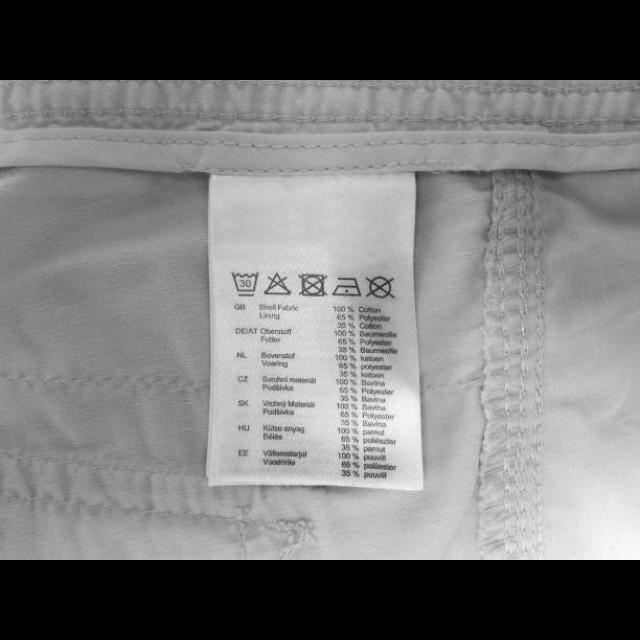30C: (228, 268, 260, 298)
DN_bleach: (262, 270, 294, 300)
DN_dry_clean: (364, 272, 396, 300)
DN_tumble_dry: (296, 270, 330, 300)
iron_low: (330, 274, 364, 300)
